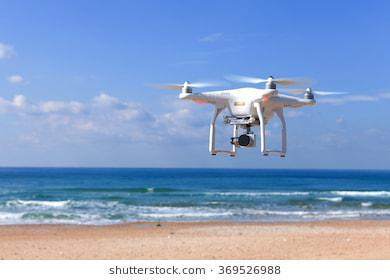drone: (172, 74, 318, 159)
